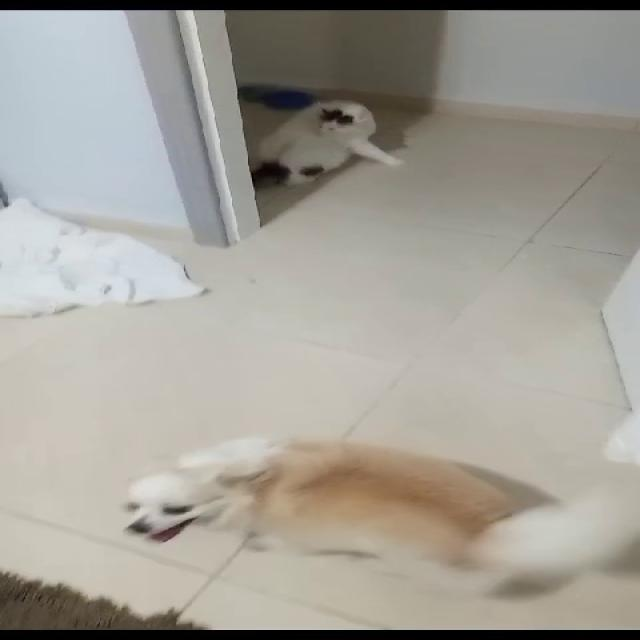Simba: (235, 82, 440, 200)
Theo: (111, 424, 638, 640)
